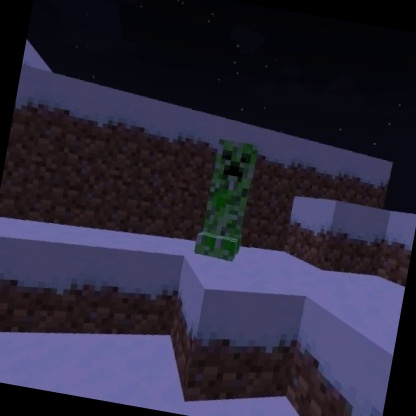creeper: (190, 135, 263, 267)
